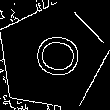O_W: (23, 32, 81, 83)
